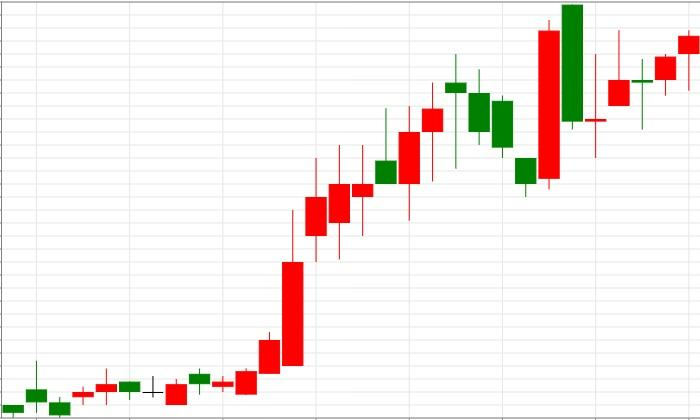evening_star_fall: (235, 52, 490, 395)
